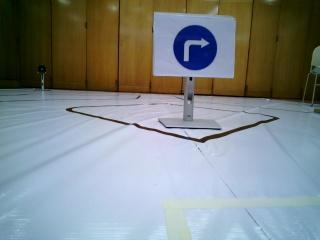right: (153, 11, 232, 82)
